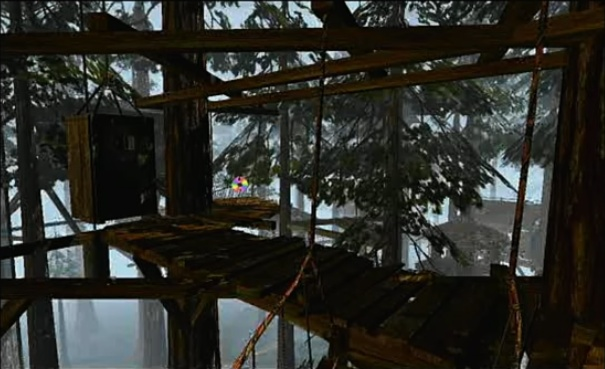Waiting: (229, 174, 251, 194)
